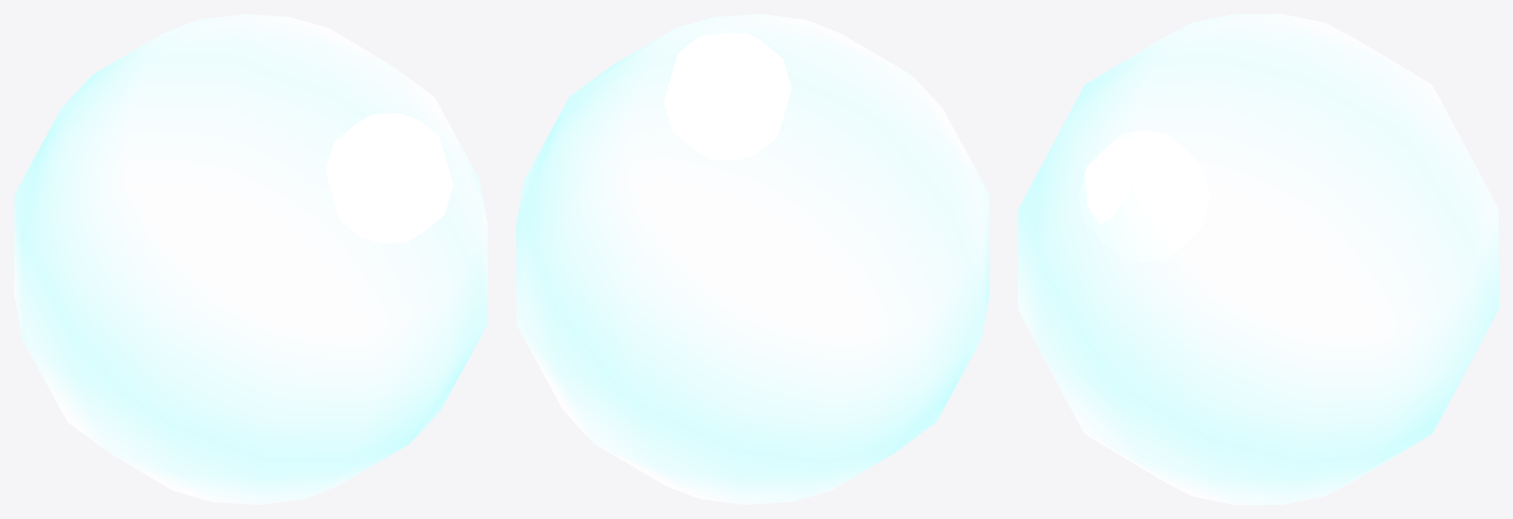
File: CR-fx_bubble.glb
3 renders of one model, left to right at view 1: azimuth 30°, elevation 25°; view 2: azimuth 150°, elevation 25°; view 3: azimuth 270°, elevation 25°, orthographic.
Parts seen in each view (by area): view 1: fx_bubble; view 2: fx_bubble; view 3: fx_bubble.
Part boxes in pixels (x1,y1,x2,y2): fx_bubble: (14, 14, 487, 504); fx_bubble: (516, 14, 989, 504); fx_bubble: (1018, 14, 1498, 504).
Bounding box in the file's own units: 0.2471 × 0.26 × 0.2535.
